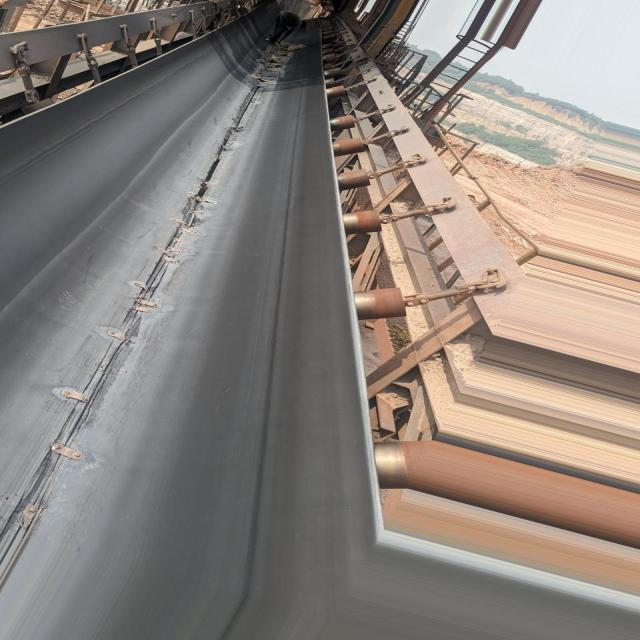Human: (273, 7, 314, 30)
Roller: (322, 26, 410, 317)
Tear: (186, 85, 258, 197)
patch work: (0, 194, 209, 571), (245, 35, 298, 89)
